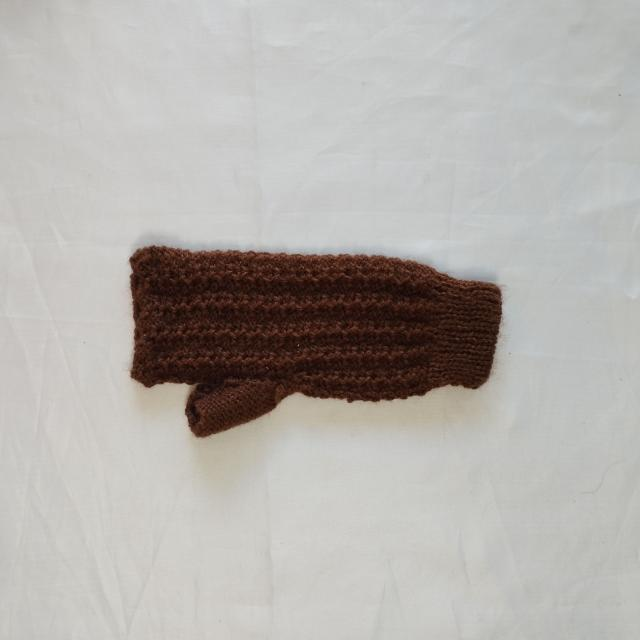Guante: (128, 243, 504, 439)
